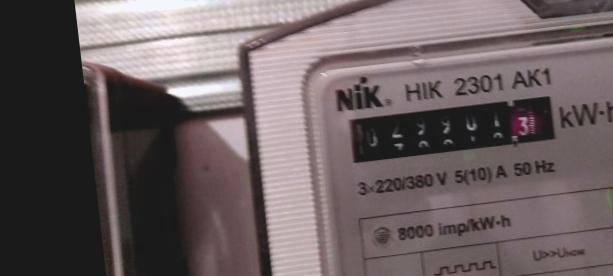0: (462, 106, 479, 133), (362, 125, 381, 147)
1: (487, 105, 502, 129)
2: (387, 119, 405, 140)
3: (515, 112, 530, 136)
9: (437, 111, 454, 135), (413, 114, 427, 138)
screen: (334, 83, 567, 173)
